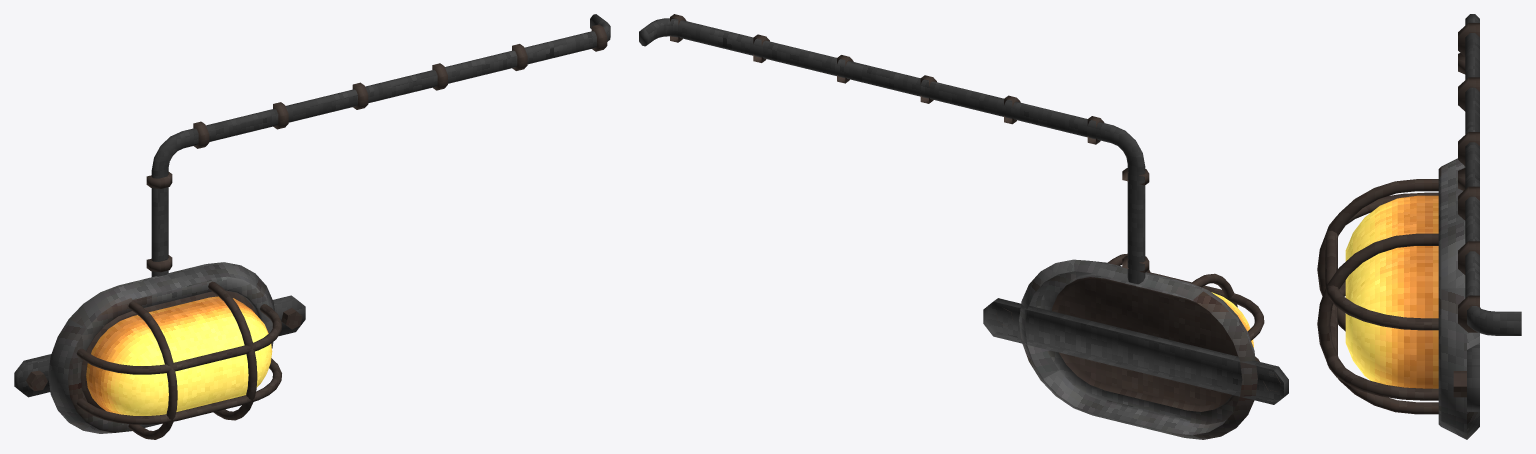
The model's file is lamp_1.glb.
3 views of the same model, side by side, from view 1: azimuth 30°, elevation 25°; view 2: azimuth 150°, elevation 25°; view 3: azimuth 270°, elevation 25° (orthographic). The views are drawn at different scales.
Parts seen in each view (by area): view 1: lamp_1; view 2: lamp_1; view 3: lamp_1.
Boxes of the visible parts, x1,y1,x2,y2 form: lamp_1: (14, 14, 610, 439); lamp_1: (639, 14, 1288, 439); lamp_1: (1317, 14, 1521, 439).
Size of the model in its own units: 0.7532 by 0.343 by 0.1583.
Materials: 4 (4 with a texture image).
